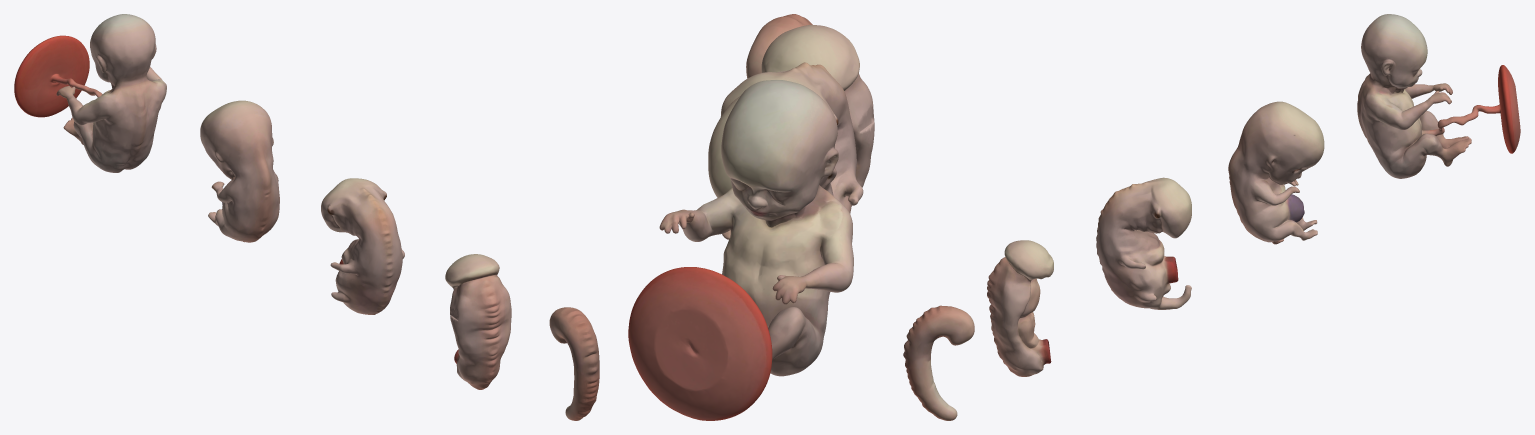
File: Embryo Stages.glb
3 renders of one model, left to right at view 1: azimuth 30°, elevation 25°; view 2: azimuth 150°, elevation 25°; view 3: azimuth 270°, elevation 25°, orthographic. The views are drawn at different scales.
Parts seen in each view (by area): view 1: tripo_node_790487df-59e6-4ce6-b42c-8cccaf125ee3; view 2: tripo_node_790487df-59e6-4ce6-b42c-8cccaf125ee3; view 3: tripo_node_790487df-59e6-4ce6-b42c-8cccaf125ee3.
Part boxes in pixels (left/top/right/bottom): tripo_node_790487df-59e6-4ce6-b42c-8cccaf125ee3: left=14, top=14, right=599, bottom=420; tripo_node_790487df-59e6-4ce6-b42c-8cccaf125ee3: left=628, top=14, right=874, bottom=420; tripo_node_790487df-59e6-4ce6-b42c-8cccaf125ee3: left=903, top=14, right=1520, bottom=420.
Size of the model in its own units: 0.5367 by 0.5235 by 1.
1 material, 1 textured.
